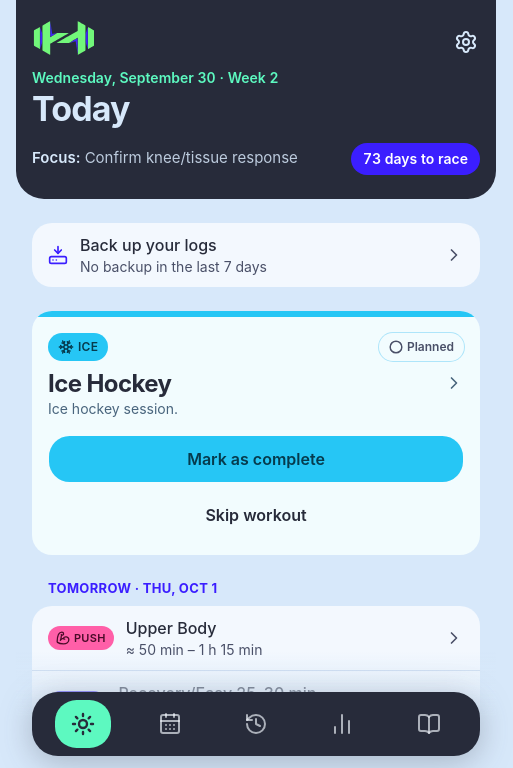
Test case: Today › completes ICE with one tap, no form, and can undo
Click the button "Mark as complete" at (256, 458), box [48,434,464,482]
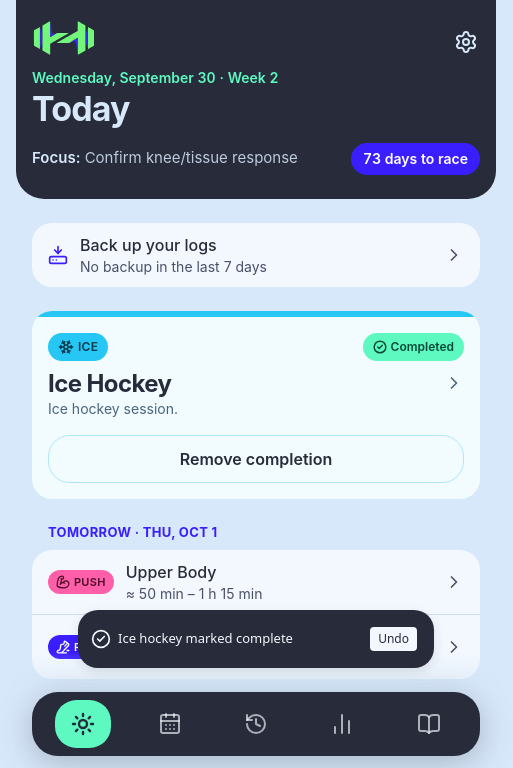
Check: the text "Completed" is shown, box [363,332,464,360]
Click the button "Undo" at (394, 639), box [370,627,417,651]
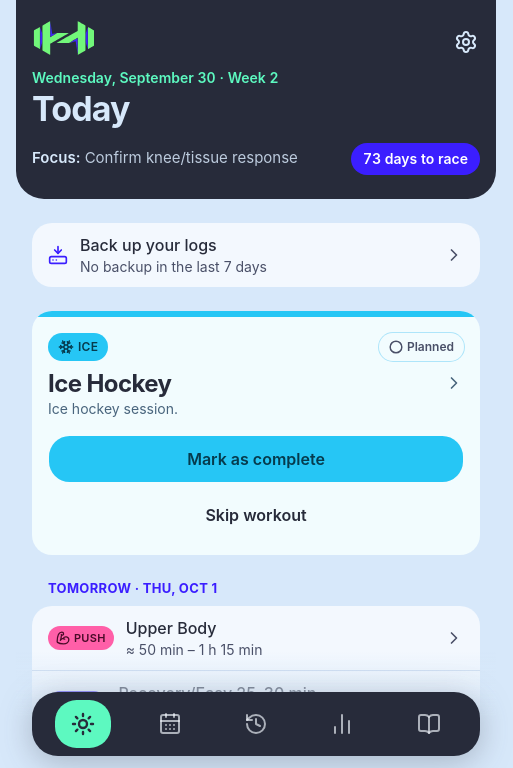
Check: the text "Planned" is shown, box [379,332,464,360]
